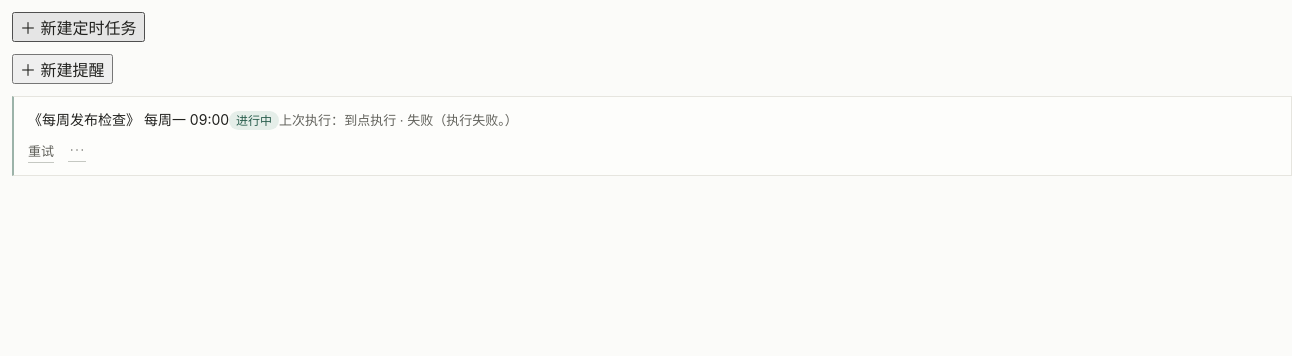
A2 item 8：状态操作的失败逐类指名（不再塌成一句话） › 409/冲突：如实说状态已经变了（删掉逐类映射就会退回「操作失败，请重试。」）
What coordinates should you click on to do the following:
click the button named "更多操作"
I would click on:
 (77, 151)
Its box is [68, 139, 86, 162].
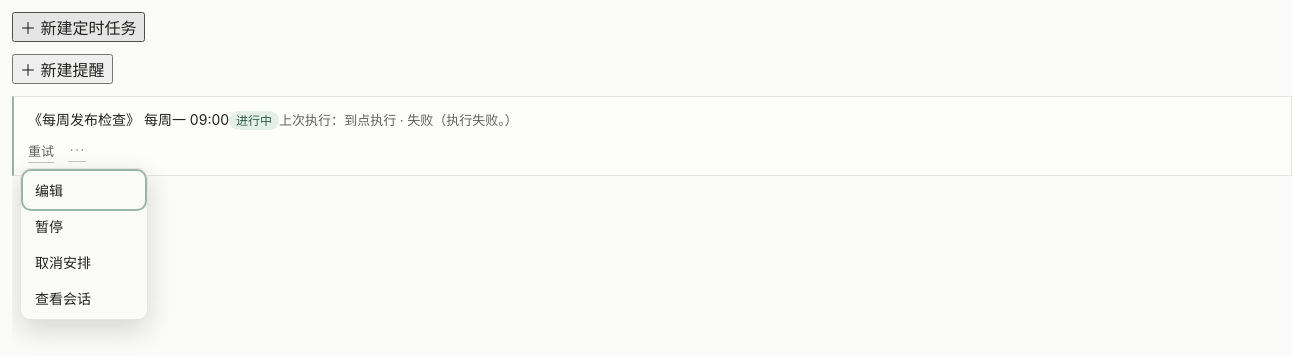
What coordinates should you click on to do the following:
click the menu item "暂停"
I would click on:
 (84, 226)
Its box is [25, 209, 143, 243].
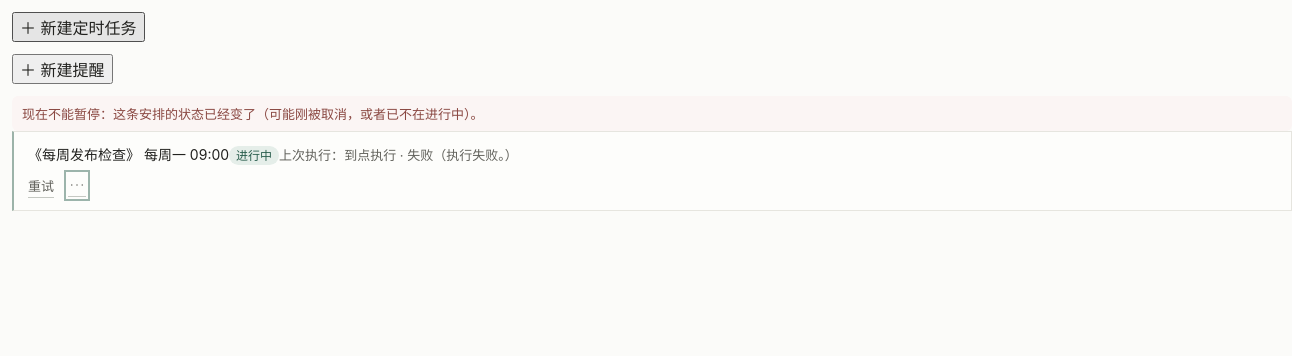
expect the message "现在不能暂停：这条安排的状态已经变了（可能刚被取消，或者已不在进行中）。" is shown: met, box [12, 96, 1291, 131]
